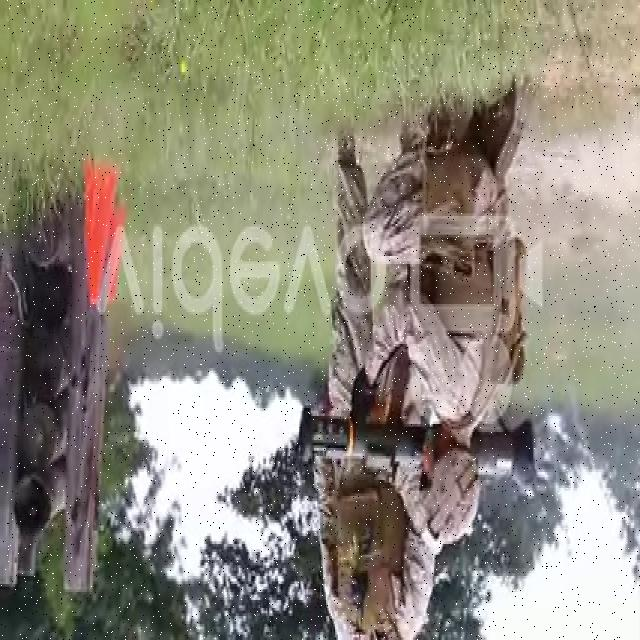bazooka: (291, 409, 541, 498)
